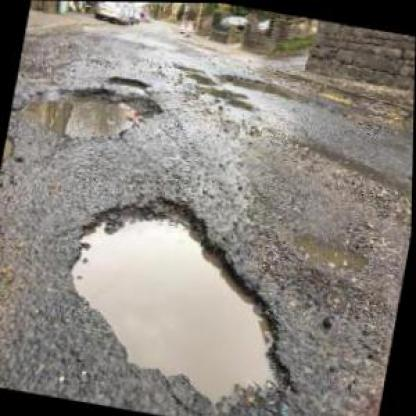pothole: (46, 174, 326, 414), (15, 70, 169, 150), (290, 228, 374, 278), (105, 69, 154, 93), (2, 133, 16, 164)
